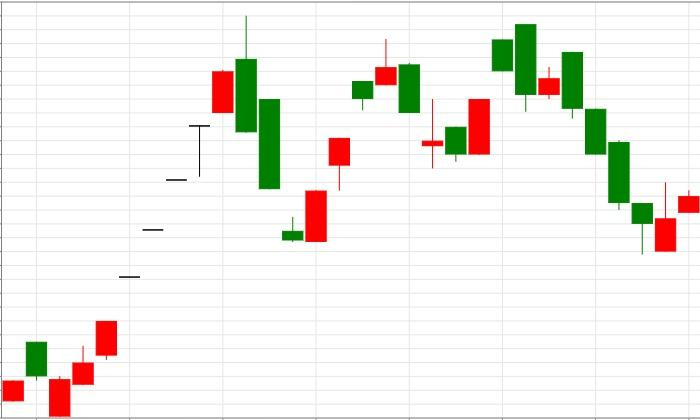bearish_engulfing_fall: (49, 15, 257, 417)
